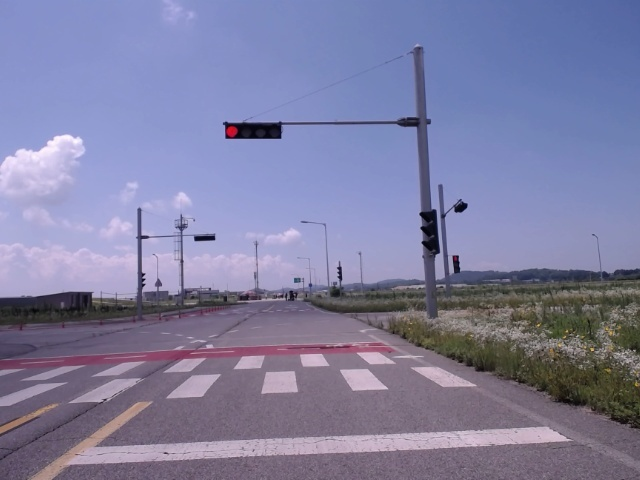red_4: (225, 122, 282, 139)
